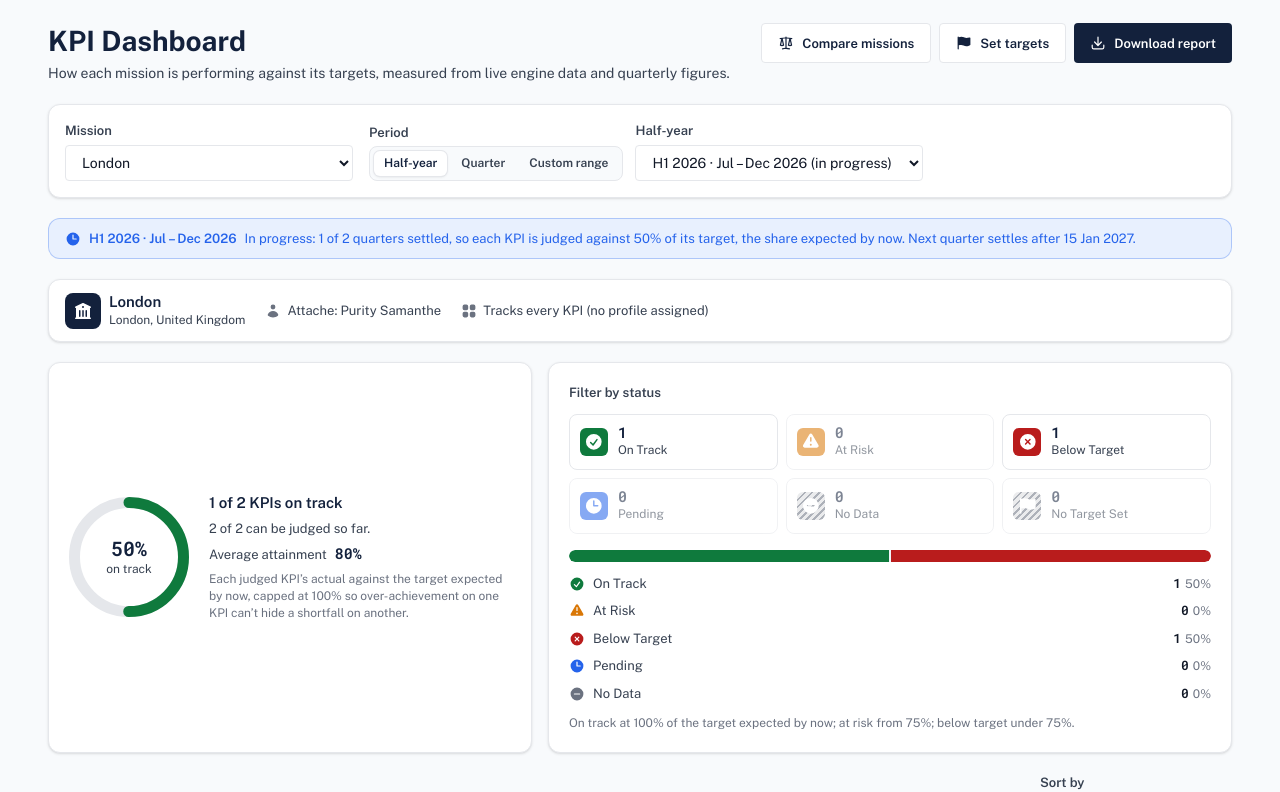
Test: KpiDashboardPage › TC-FR-KPI-010-UI: puts what needs attention first and lets the reader filter by status
Click the button with test id "kpi-status-tile-below_target": (1107, 442) [1002,414,1211,470]
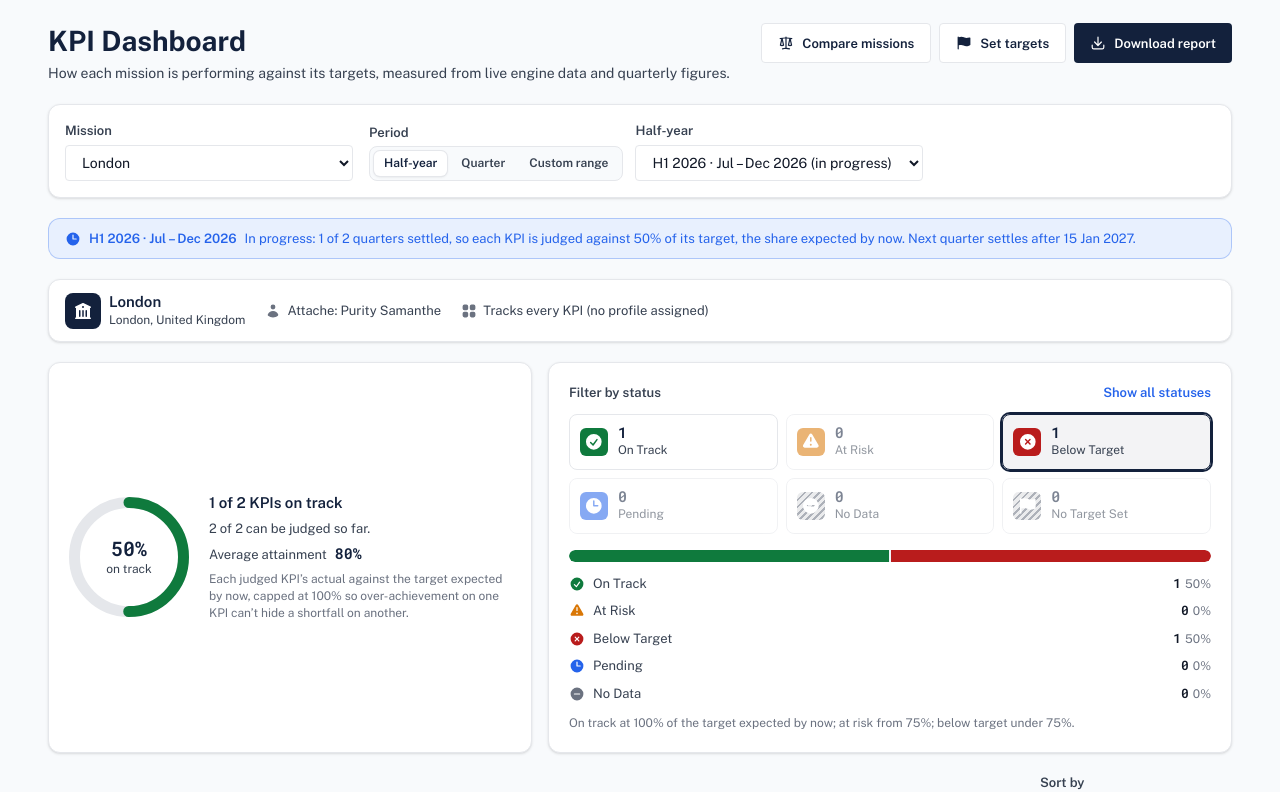
Click the button "Show all statuses": (1157, 392) [1103,383,1211,402]
(page scrolled)
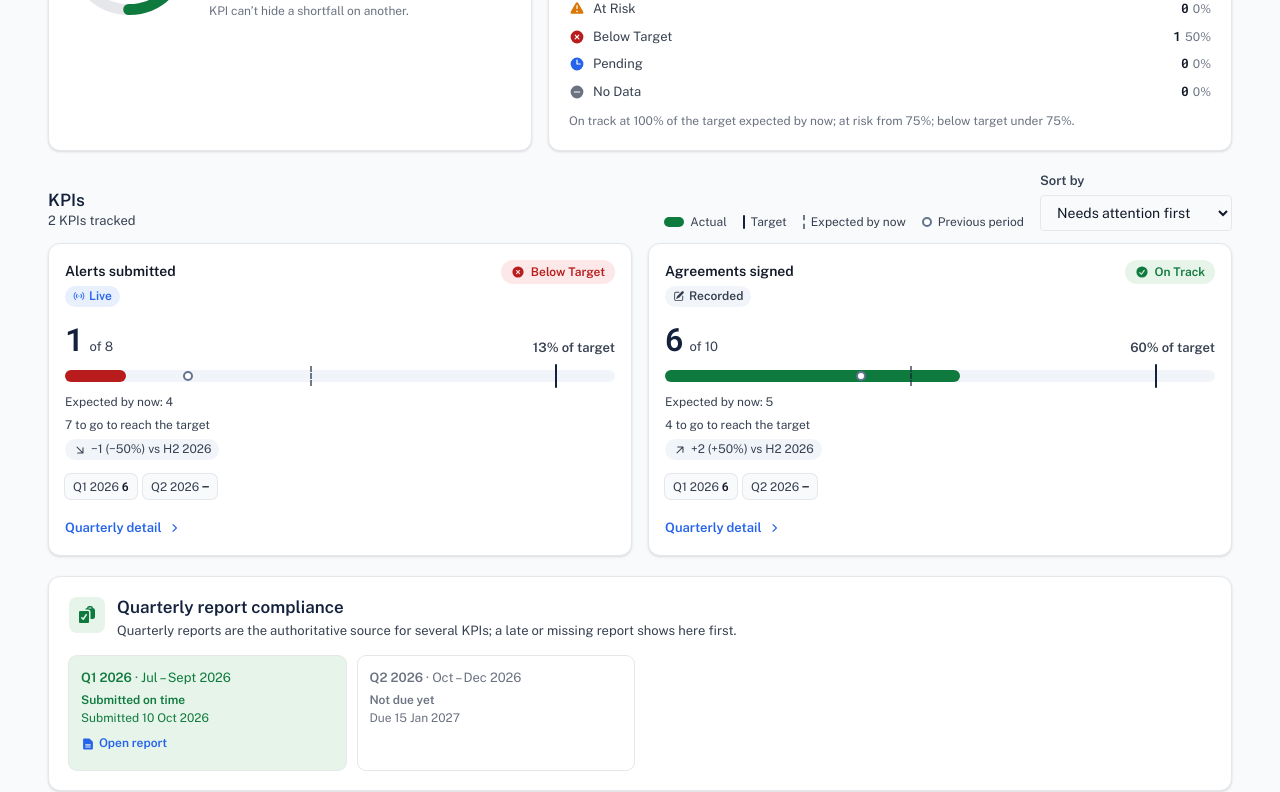
Now the element with test id "kpi-card-kpi-1" is shown, box [648,243,1232,556]
